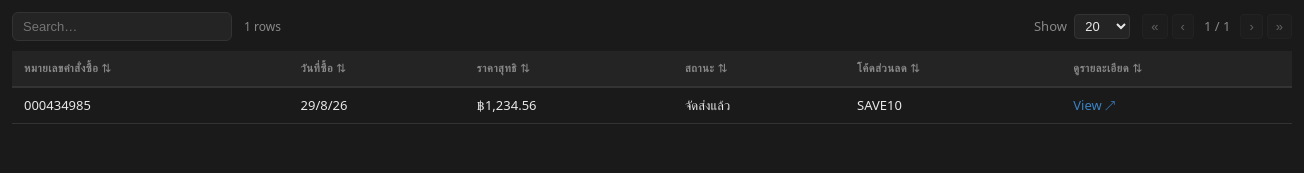
it: search highlighting in the tables › does not mark a row that only matched a hidden field
Type "nomatch" into the search field with placeholder "Search…" at (122, 26), box [12,12,232,41]
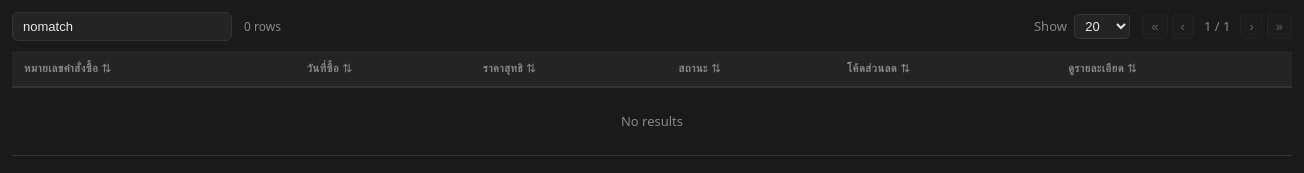
Expected: the text "No results" is shown, [12,86,1292,156]
